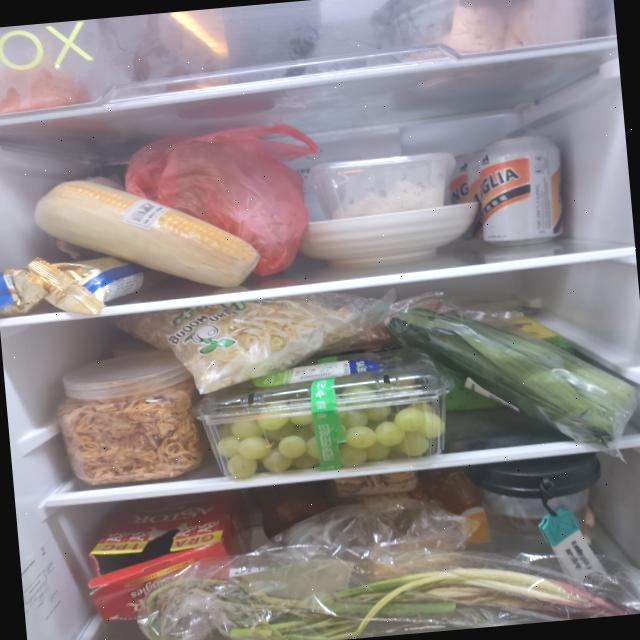bean_sprouts: (113, 289, 367, 403)
corn: (31, 164, 262, 304)
grape: (211, 364, 447, 480)
leafy_greens: (381, 286, 640, 464)
spring_onion: (140, 538, 640, 640)
unknown_bag: (120, 119, 330, 288)
